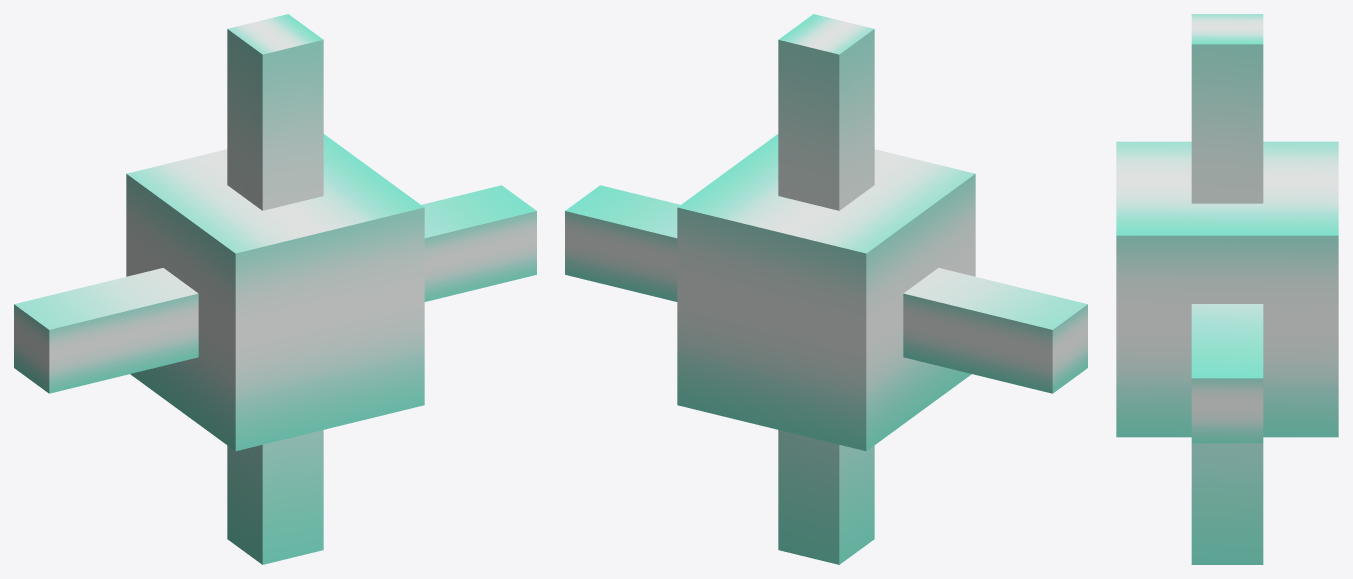
The model's file is ItemHealth.fbx.
3 views of the same model, side by side, from view 1: azimuth 30°, elevation 25°; view 2: azimuth 150°, elevation 25°; view 3: azimuth 270°, elevation 25° (orthographic). The views are drawn at different scales.
Parts seen in each view (by area): view 1: ItemHealth; view 2: ItemHealth; view 3: ItemHealth.
Part boxes in pixels (left/top/right/bottom): ItemHealth: left=14, top=14, right=536, bottom=564; ItemHealth: left=565, top=14, right=1087, bottom=564; ItemHealth: left=1116, top=14, right=1338, bottom=564.
Size of the model in its own units: 1.51 by 1.51 by 0.5835.
